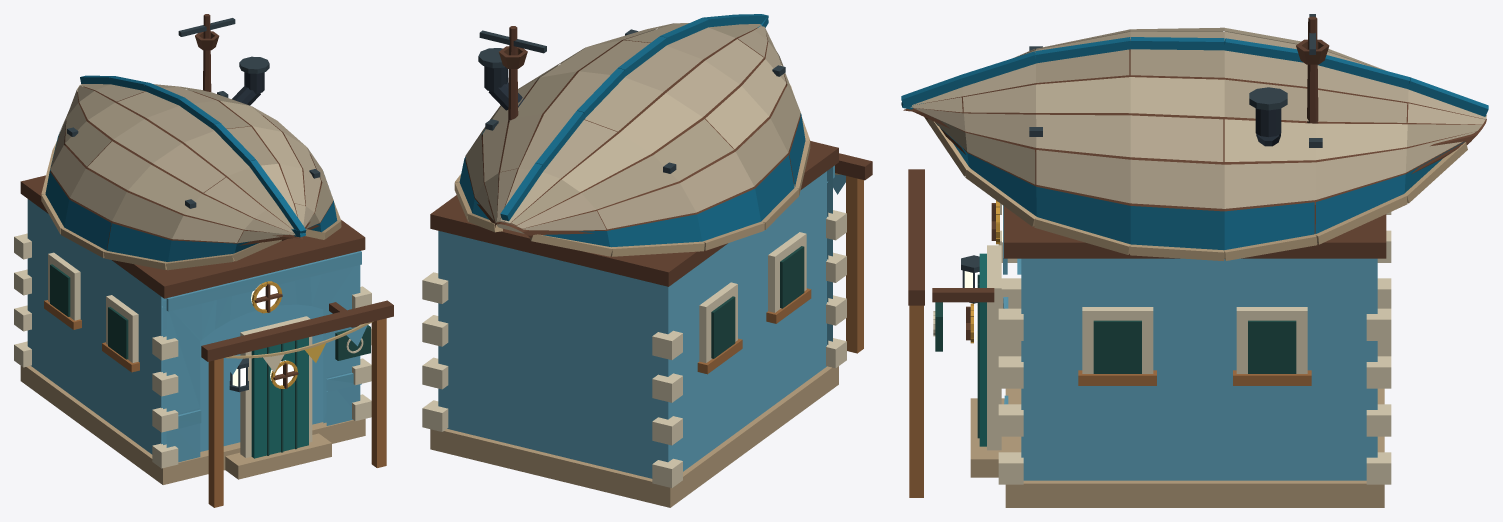
Rendered from boat-shop-small-sky.glb.
3 renders of one model, left to right at view 1: azimuth 30°, elevation 25°; view 2: azimuth 150°, elevation 25°; view 3: azimuth 270°, elevation 25°, orthographic. The views are drawn at different scales.
Visible parts, largest first — view 1: boat-shop-small-sky; view 2: boat-shop-small-sky; view 3: boat-shop-small-sky.
Part boxes in pixels (<box>): boat-shop-small-sky: <box>14,14,393,507</box>; boat-shop-small-sky: <box>422,14,872,507</box>; boat-shop-small-sky: <box>901,14,1488,507</box>.
Bounding box in the file's own units: 3.32 × 4.53 × 5.22.
